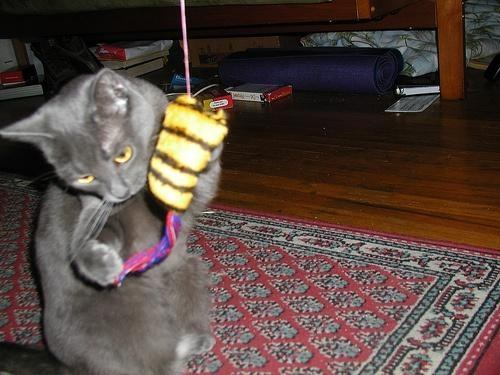cat: (1, 70, 227, 372)
